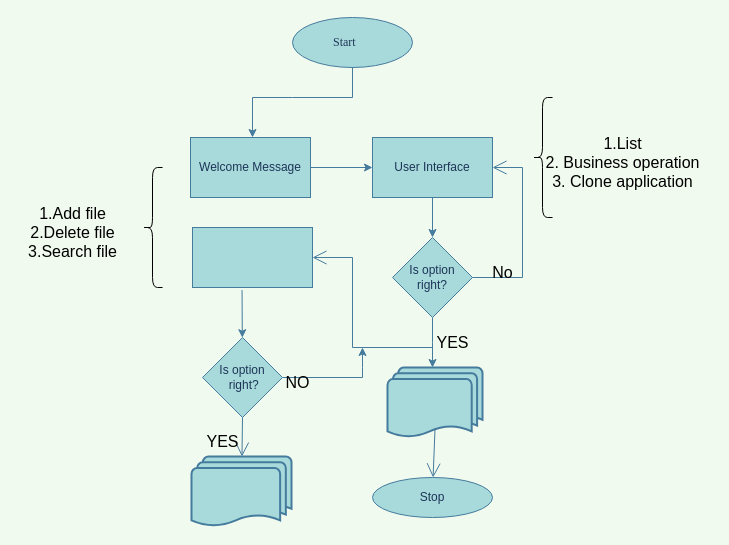
The diagram is 729 pixels wide and 545 high, and some of its shapes have lost their labels. Each missing label, with the centre of its shape:
Business operation Performed: the point at 241,491
List files or close: the point at 434,402
Sub-User Interface: the point at 252,257
